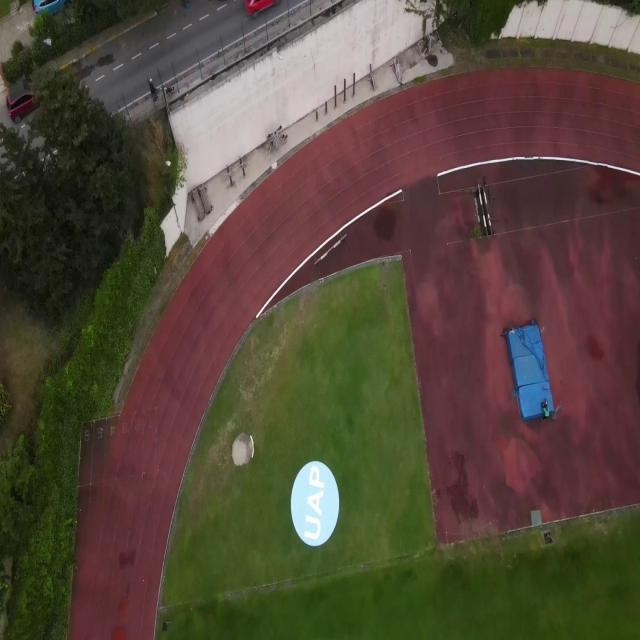p3rson: (149, 78, 159, 102), (541, 402, 549, 422)
